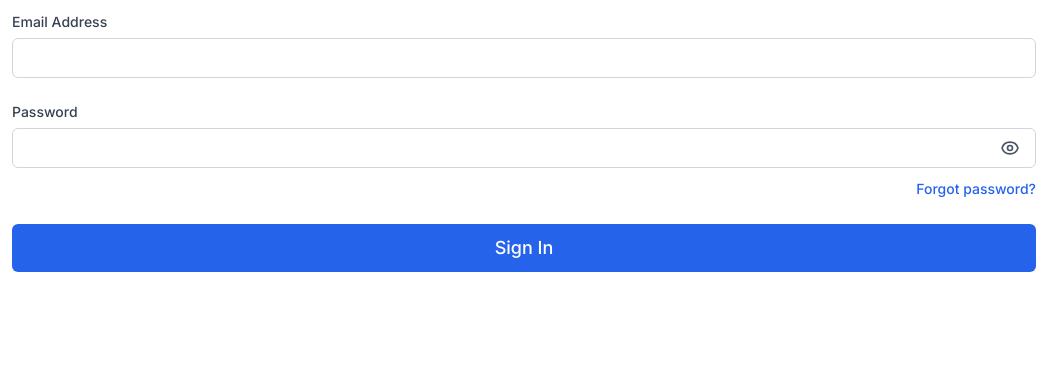
Test: LoginForm - Integration Tests (Fix Form Submission) › 6.1: Login form submission flow › should handle API errors and display error message
This screenshot has width=1048, height=369.
In the field labelled "Email Address": (524, 58) x1=12 y1=38 x2=1036 y2=78, type "wrong@example.com"
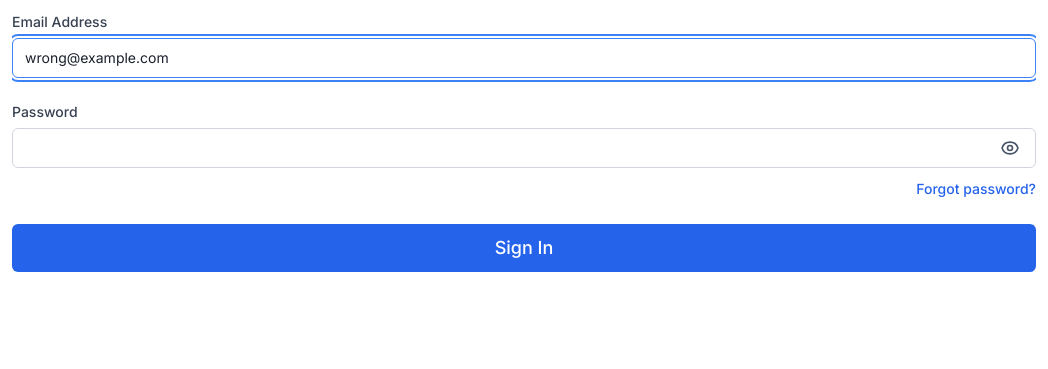
In the password field labelled "Password": (524, 148) x1=12 y1=128 x2=1036 y2=168, type "WrongPass123!"
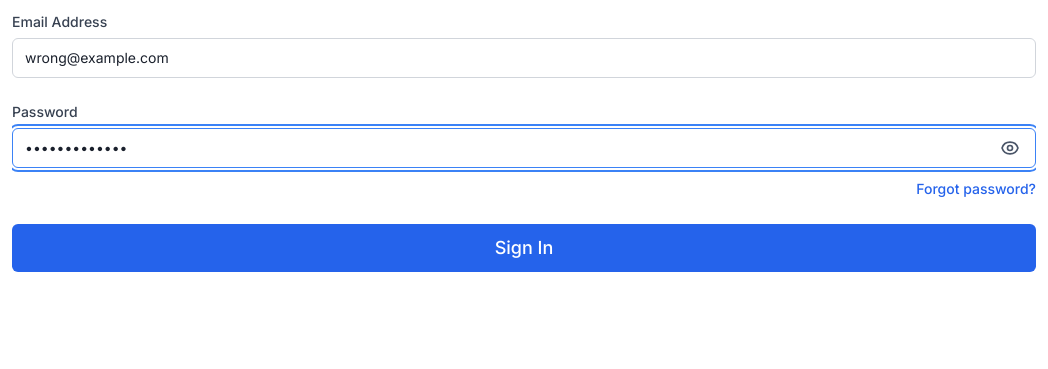
Click the button "Sign In": (524, 248) x1=12 y1=224 x2=1036 y2=272
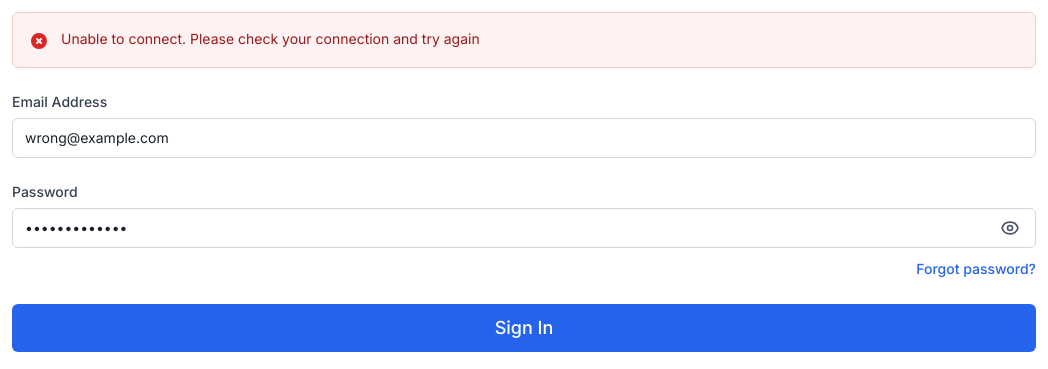
Expected: the button "Sign In" is enabled, x1=12 y1=304 x2=1036 y2=352
Now the message "Unable to connect. Please check your connection and try again" is shown, box x1=12 y1=12 x2=1036 y2=68
